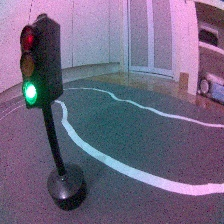green: (16, 12, 90, 215)
